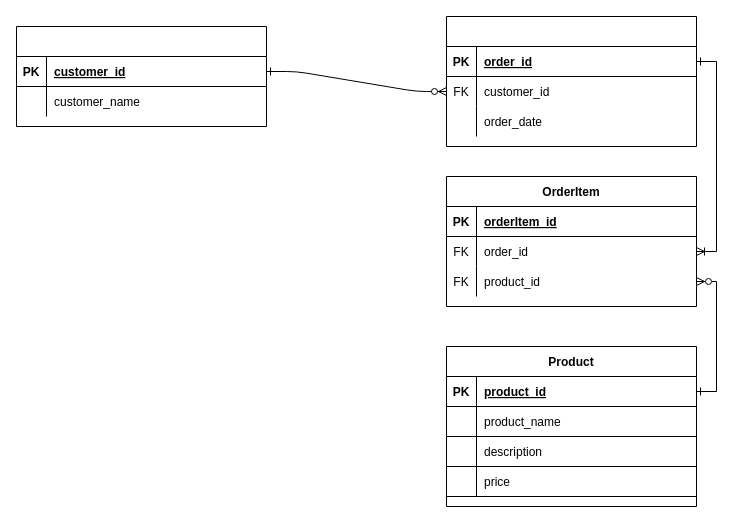
This 733x523 diagram has some shape labels left out. Each missing label, with the box of its shape:
Customers: (16, 26, 266, 126)
Orders: (446, 16, 696, 146)
